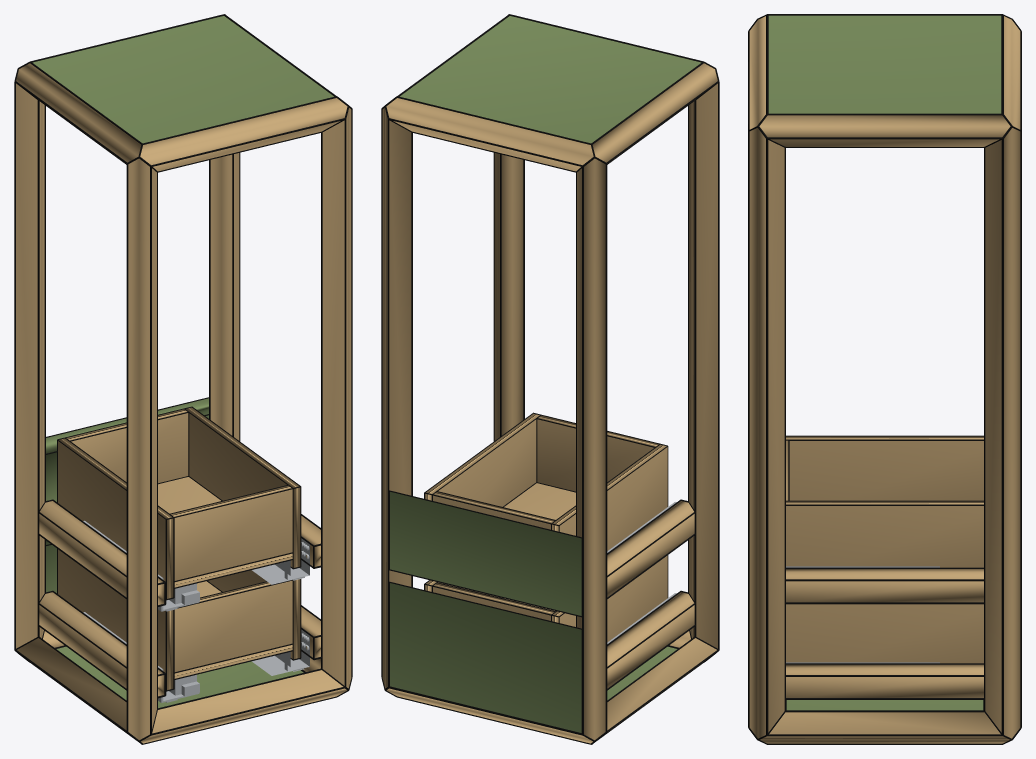
Rendered from 012-servante.glb.
The picture shows the model from 3 angles, left to right: view 1: azimuth 30°, elevation 25°; view 2: azimuth 150°, elevation 25°; view 3: azimuth 270°, elevation 25°; orthographic projection. The views are drawn at different scales.
Parts seen in each view (by area): view 1: panneau-dessus_exterieur, arete-Z1, arete-Z0, arete-Z2, drawer-box-avant-mod-1, arete-Z3, drawer-box-avant-mod-0, drawer-box-joue_g-mod-1, arete-X2, drawer-box-joue_d-mod-1, arete-X0, drawer-box-joue_g-mod-0 (+30 smaller); view 2: panneau-dessus_exterieur, drawer-box-facade-mod-0, drawer-box-facade-mod-1, arete-Z0, arete-Z2, arete-Z3, arete-Z1, arete-X3, drawer-box-joue_d-mod-1, drawer-box-joue_g-mod-1, drawer-box-avant-mod-1, arete-wire-Z0 (+22 smaller); view 3: panneau-dessus_exterieur, arete-Z1, arete-Z3, drawer-box-joue_d-mod-1, drawer-box-joue_g-mod-1, drawer-box-joue_d-mod-0, arete-Y3, arete-Y1, drawer-tr-drawer-traverse-right-mod-1, drawer-tr-drawer-traverse-right-mod-0, arete-wire-Z1, arete-wire-Z3 (+12 smaller).
Boxes of the visible parts, x1,y1,x2,y2 form: panneau-dessus_exterieur: (32,16,333,143); arete-Z1: (322,108,351,688); arete-Z0: (128,158,156,740); arete-Z2: (16,83,44,648); drawer-box-avant-mod-1: (171,485,292,580); arete-Z3: (210,153,239,440); drawer-box-avant-mod-0: (174,580,292,671); drawer-box-joue_g-mod-1: (58,438,173,598); arete-X2: (140,98,347,171); drawer-box-joue_d-mod-1: (186,407,300,567); arete-X0: (141,670,346,743); drawer-box-joue_g-mod-0: (58,549,173,689); panneau-dessus_exterieur: (400,16,701,143); drawer-box-facade-mod-0: (390,583,581,732); drawer-box-facade-mod-1: (390,492,581,615); arete-Z0: (689,83,717,648); arete-Z2: (577,158,605,740); arete-Z3: (382,108,411,688); arete-Z1: (494,153,523,440); arete-X3: (386,98,593,171); drawer-box-joue_d-mod-1: (425,413,539,506); drawer-box-joue_g-mod-1: (552,444,667,550); drawer-box-avant-mod-1: (537,415,658,491); arete-wire-Z0: (688,68,719,649); panneau-dessus_exterieur: (768,15,1001,113); arete-Z1: (749,128,784,738); arete-Z3: (985,128,1020,738); drawer-box-joue_d-mod-1: (786,501,983,567); drawer-box-joue_g-mod-1: (786,436,983,500); drawer-box-joue_d-mod-0: (786,604,983,663); arete-Y3: (759,115,1010,146); arete-Y1: (760,712,1009,743); drawer-tr-drawer-traverse-right-mod-1: (786,569,983,602); drawer-tr-drawer-traverse-right-mod-0: (786,664,983,697); arete-wire-Z1: (748,126,785,735); arete-wire-Z3: (984,131,1021,735).
Size of the model in its own units: 0.3238 by 0.8238 by 0.3238.
